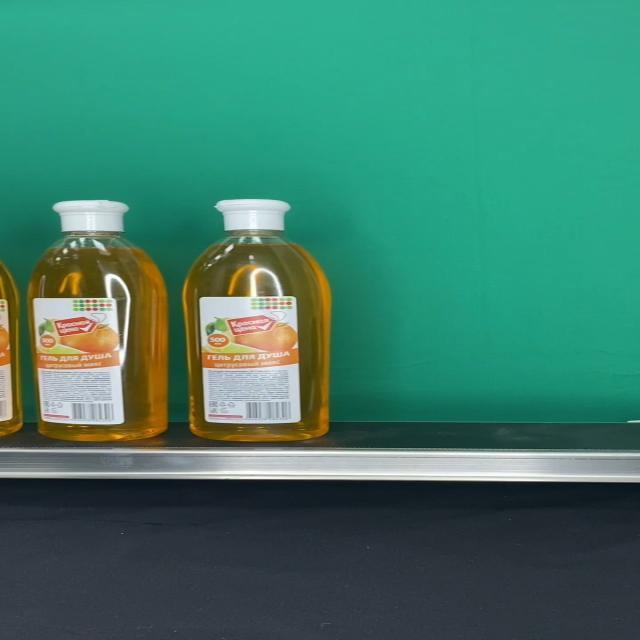Bottle: (182, 199, 332, 441), (27, 199, 170, 442)
Cap: (52, 200, 130, 232), (212, 198, 290, 230)
